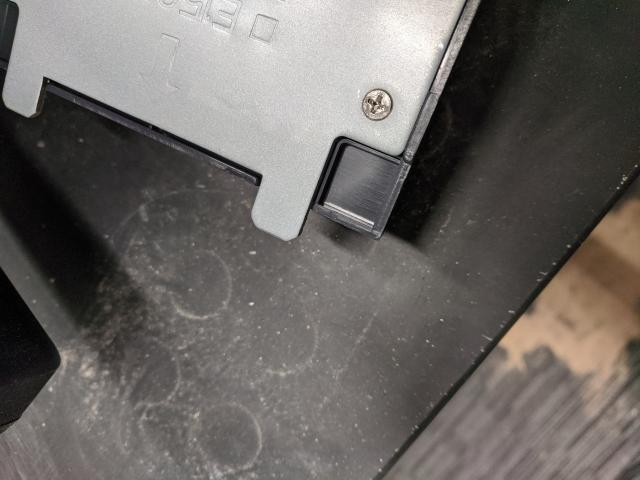CRS: (361, 88, 394, 121)
